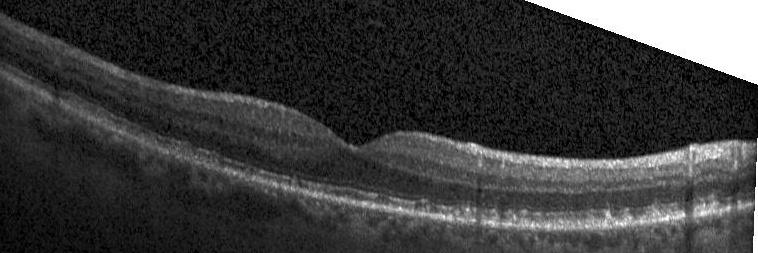retinal_drusen: (647, 209, 671, 222), (694, 202, 722, 213), (415, 202, 431, 216), (177, 144, 191, 157), (622, 212, 634, 225), (207, 152, 219, 164), (604, 213, 614, 227), (290, 176, 298, 189), (509, 214, 519, 224), (243, 167, 253, 177), (462, 209, 472, 218)
